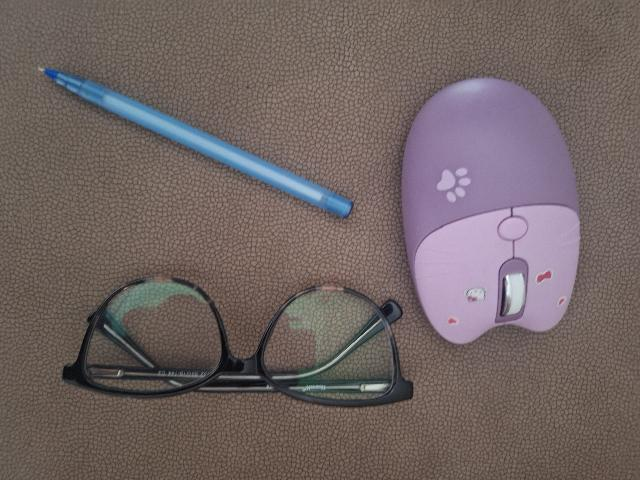writing_tool: (35, 65, 354, 222)
